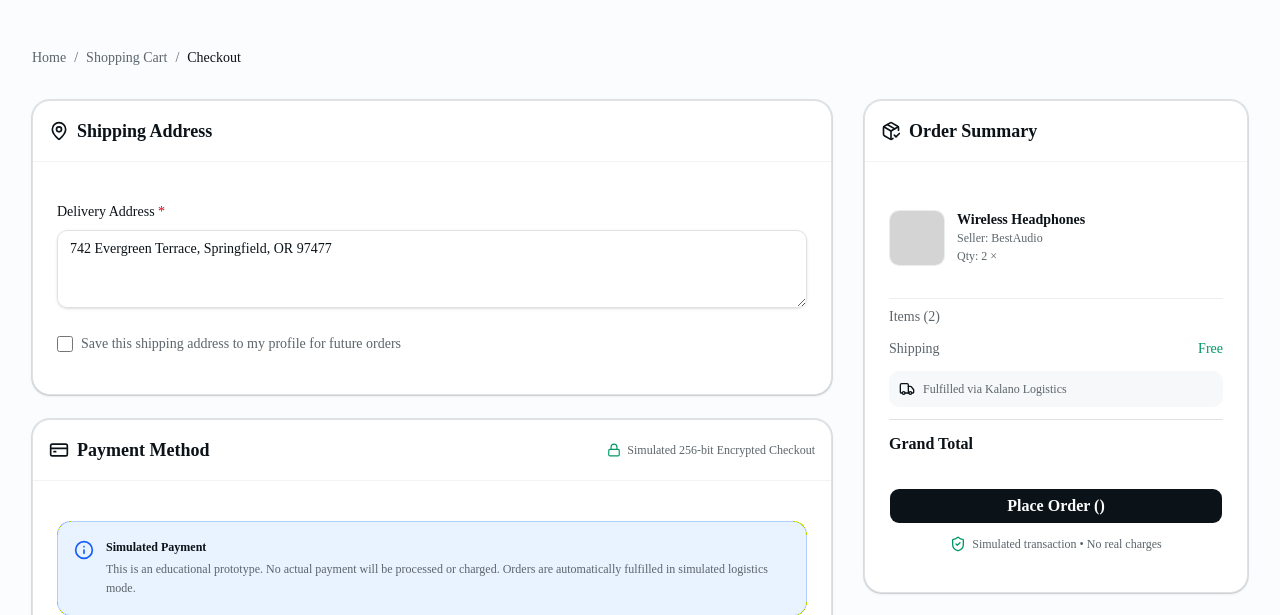
Test: CheckoutPage › displays server error alert without navigating when checkout fails
Click the button "Place Order ()" at (1056, 506), box [889,488,1223,524]
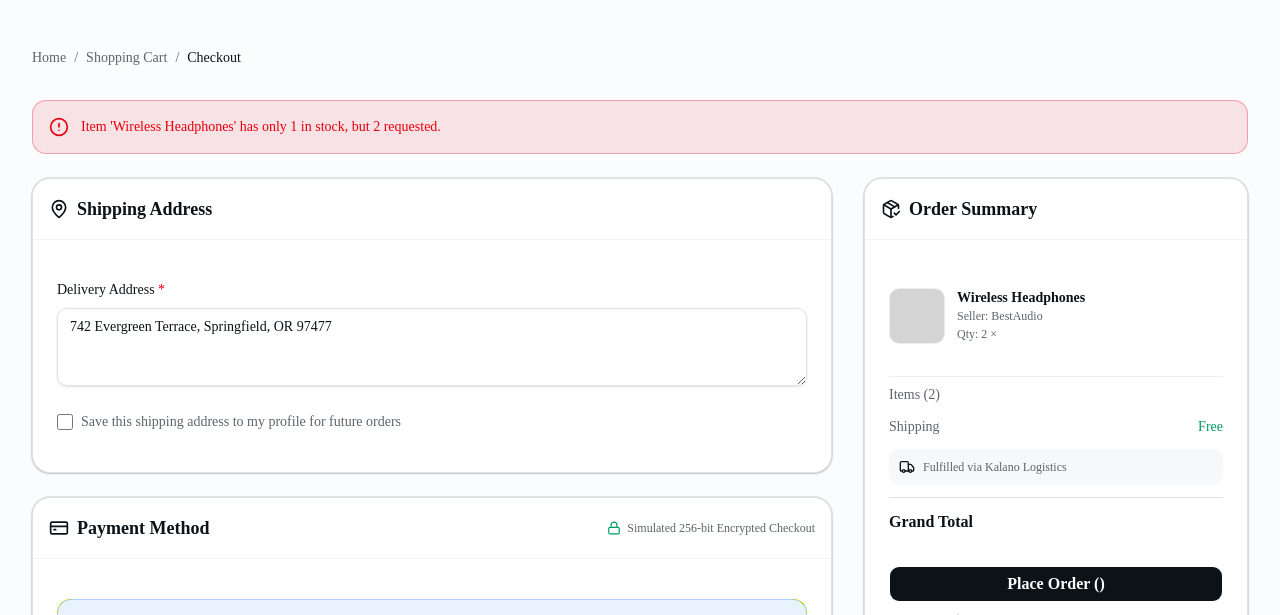
Expected: the message "Item 'Wireless Headphones' has only 1 in stock, but 2 requested." is shown, [32,100,1248,154]
Expected: the text "Item 'Wireless Headphones' has only 1 in stock" is shown, [81,119,441,134]
